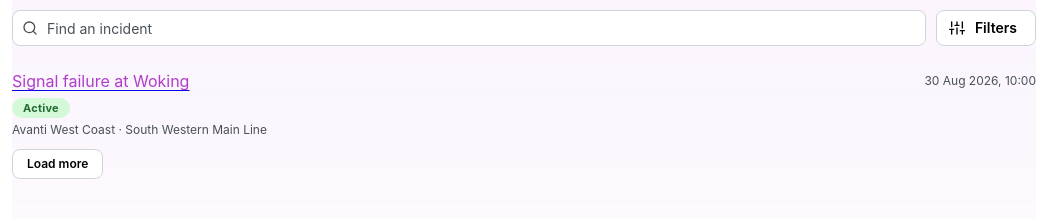
Test: IncidentSearchForm › reports a "Load more" whose fetch throws the same way it reports a non-2xx
Expected: the text "Signal failure at Woking" is shown, [12, 69, 189, 94]
Click the button "Load more": (58, 164) [12, 149, 103, 179]
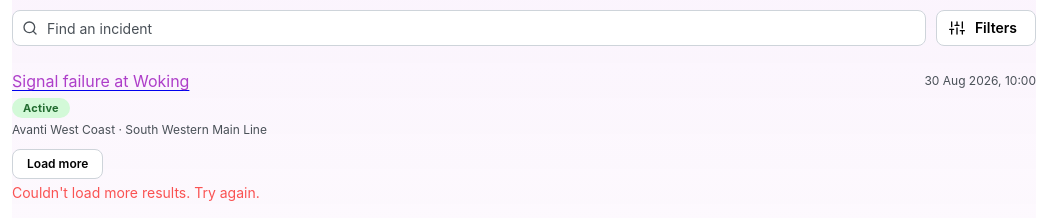
Result: the text "Couldn't load more results. Try again." is shown at [12, 184, 260, 201]
